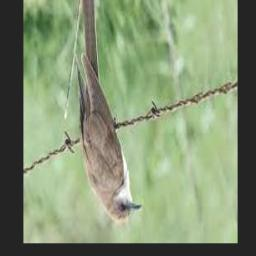Cuckoo: (76, 0, 142, 224)
